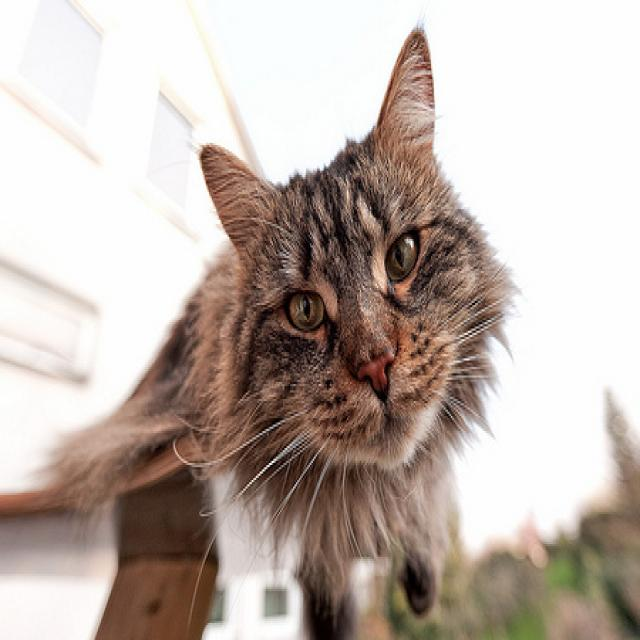Maine Coon: (54, 23, 523, 640)
